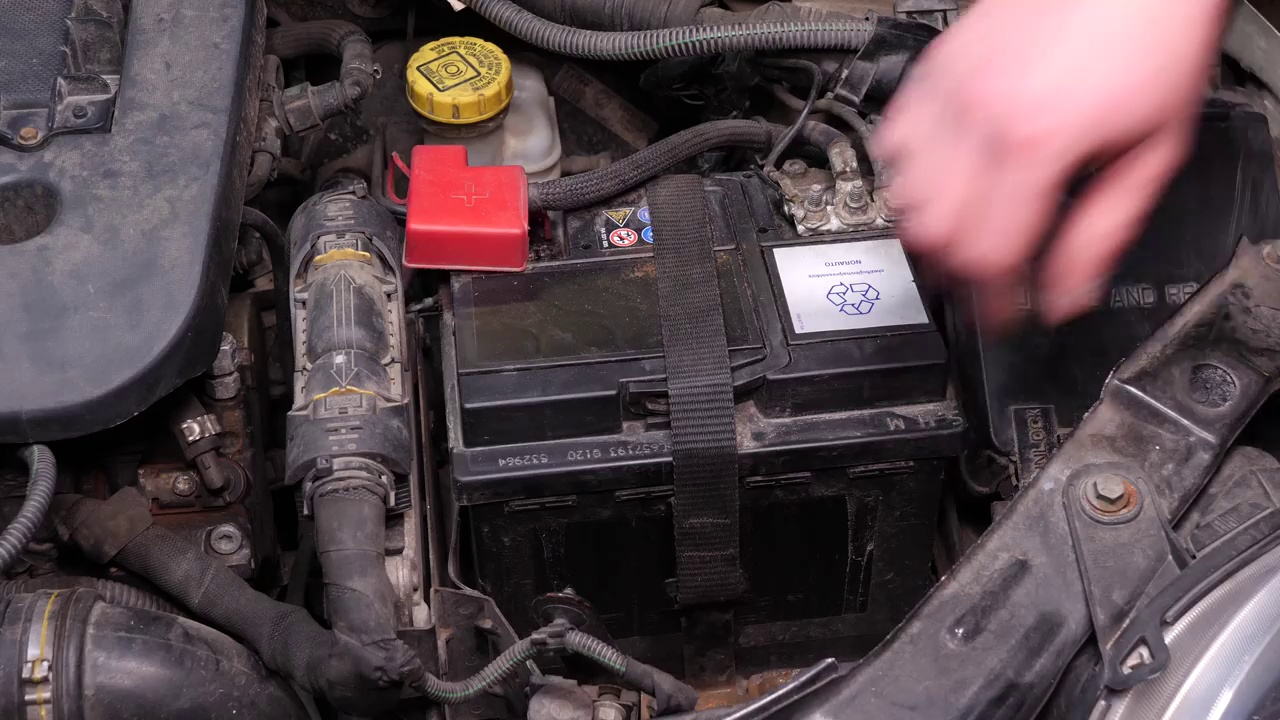battery: (403, 143, 964, 444)
neg_connected: (735, 162, 907, 245)
pos_connected: (387, 134, 578, 291)
